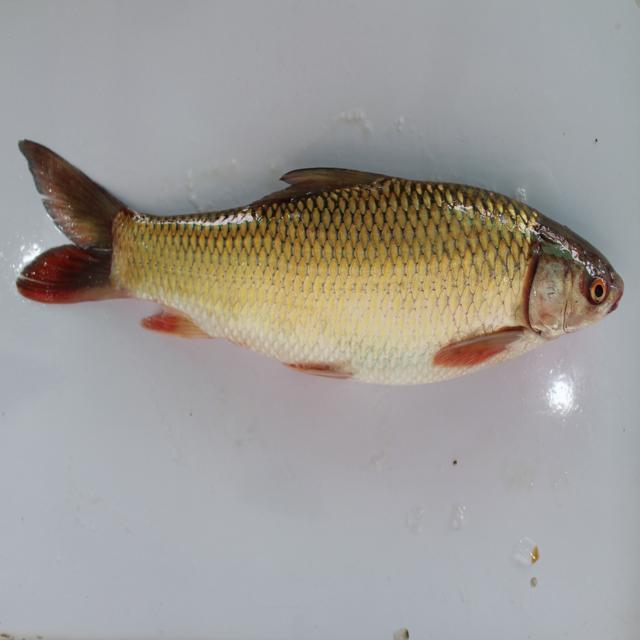Grass Carp: (9, 136, 631, 397)
